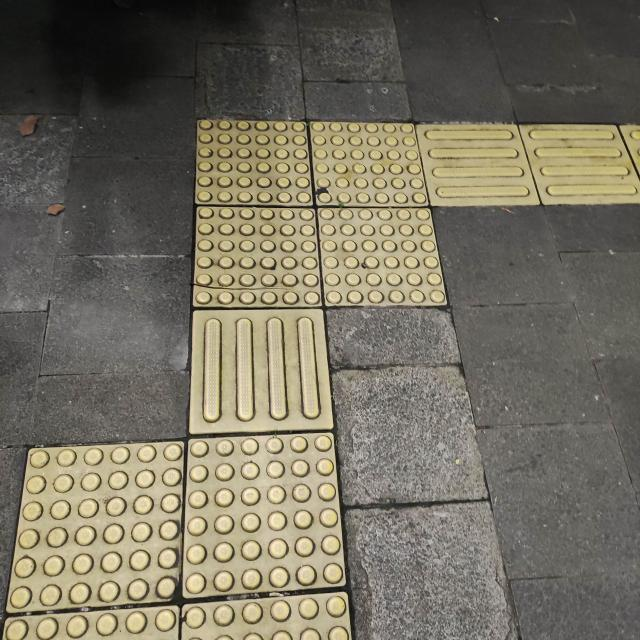kanan: (149, 67, 622, 370)
